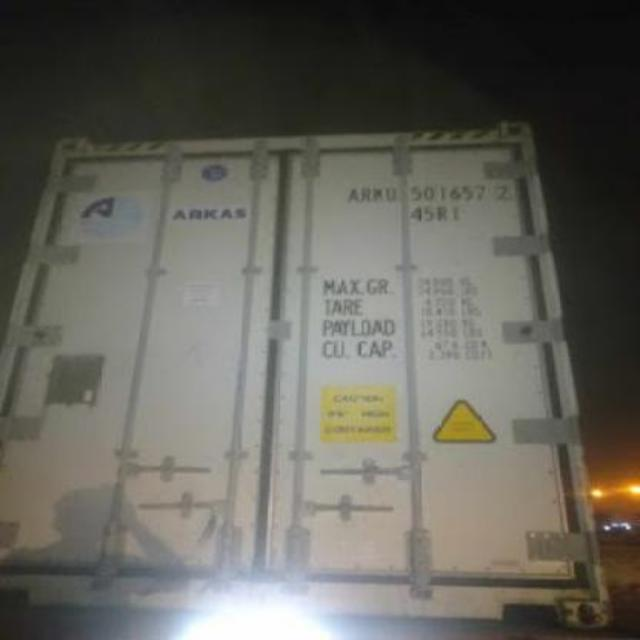0: (424, 185, 436, 201)
1: (436, 185, 446, 201)
2: (498, 185, 512, 203)
5: (462, 185, 476, 201), (411, 186, 424, 202)
6: (450, 186, 462, 200)
7: (474, 184, 488, 200)
A: (346, 188, 359, 202)
K: (370, 188, 386, 202)
R: (360, 188, 372, 202)
U: (384, 188, 400, 204)
